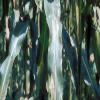Corn leaf blight: (44, 0, 63, 99)
